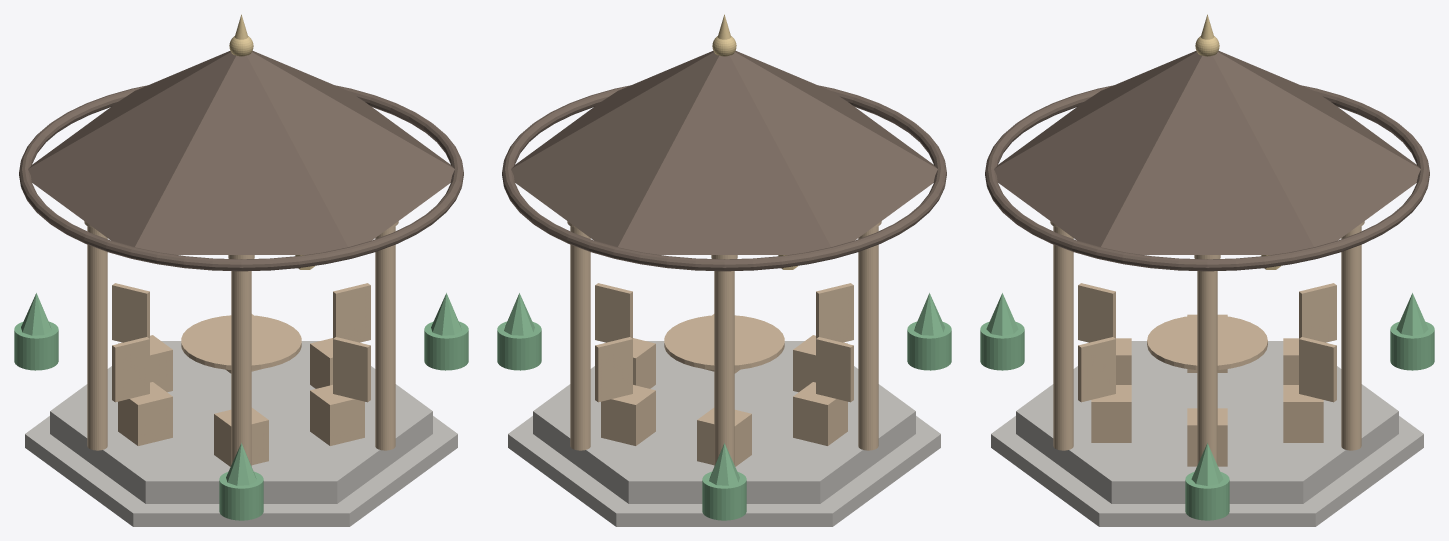
3 renders of one model, left to right at view 1: azimuth 30°, elevation 25°; view 2: azimuth 150°, elevation 25°; view 3: azimuth 270°, elevation 25°, orthographic.
Visible parts, largest first — view 1: Pyramid_Roof, Stone_Platform, Platform_Step, Roof_Trim, Table_Top, Wood_Column_6, Wood_Column_4, Wood_Column_5, Chair_Seat_6, Chair_Seat_4, Chair_Back_4, Chair_Back_6 (+11 smaller); view 2: Pyramid_Roof, Stone_Platform, Platform_Step, Roof_Trim, Table_Top, Wood_Column_2, Wood_Column_4, Wood_Column_3, Chair_Seat_2, Chair_Seat_4, Chair_Back_2, Chair_Back_4 (+11 smaller); view 3: Pyramid_Roof, Stone_Platform, Platform_Step, Roof_Trim, Table_Top, Wood_Column_2, Wood_Column_6, Wood_Column_1, Chair_Back_2, Chair_Back_6, Chair_Seat_2, Chair_Seat_6 (+11 smaller).
Part boxes in pixels (<box>): Pyramid_Roof: <box>28,50,454,254</box>; Stone_Platform: <box>50,341,432,503</box>; Platform_Step: <box>25,416,457,526</box>; Roof_Trim: <box>19,85,463,271</box>; Table_Top: <box>181,315,301,369</box>; Wood_Column_6: <box>375,226,395,450</box>; Wood_Column_4: <box>87,226,107,450</box>; Wood_Column_5: <box>231,271,251,465</box>; Chair_Seat_6: <box>310,385,364,445</box>; Chair_Seat_4: <box>118,382,172,445</box>; Chair_Back_4: <box>112,337,149,402</box>; Chair_Back_6: <box>333,337,370,402</box>; Pyramid_Roof: <box>511,50,937,254</box>; Stone_Platform: <box>533,341,915,503</box>; Platform_Step: <box>508,416,940,526</box>; Roof_Trim: <box>502,85,946,271</box>; Table_Top: <box>664,315,784,369</box>; Wood_Column_2: <box>570,226,590,450</box>; Wood_Column_4: <box>858,226,878,450</box>; Wood_Column_3: <box>714,271,734,465</box>; Chair_Seat_2: <box>601,385,655,445</box>; Chair_Seat_4: <box>793,382,847,445</box>; Chair_Back_2: <box>595,337,632,402</box>; Chair_Back_4: <box>816,337,853,402</box>; Pyramid_Roof: <box>994,51,1420,254</box>; Stone_Platform: <box>1016,341,1398,503</box>; Platform_Step: <box>991,416,1423,526</box>; Roof_Trim: <box>985,85,1429,271</box>; Table_Top: <box>1147,315,1267,369</box>; Wood_Column_2: <box>1341,226,1361,450</box>; Wood_Column_6: <box>1053,226,1073,450</box>; Wood_Column_1: <box>1197,271,1217,464</box>; Chair_Back_2: <box>1299,337,1336,402</box>; Chair_Back_6: <box>1078,337,1115,402</box>; Chair_Seat_2: <box>1283,385,1323,442</box>; Chair_Seat_6: <box>1091,385,1131,442</box>.
Bounding box in the file's own units: 4.78 × 4.75 × 4.51.
